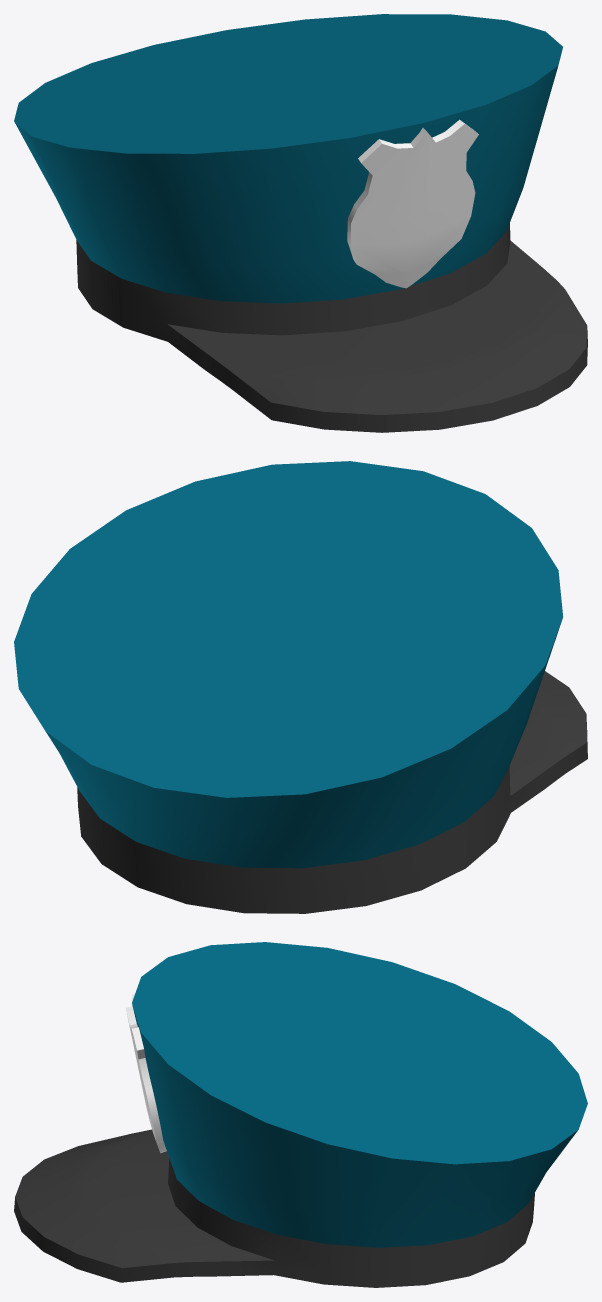
Rendered from M_PoliceHat_0.fbx.
3 views of the same model, one above another, from view 1: azimuth 30°, elevation 25°; view 2: azimuth 150°, elevation 25°; view 3: azimuth 270°, elevation 25° (orthographic). The views are drawn at different scales.
Parts seen in each view (by area): view 1: M_PoliceHat_0; view 2: M_PoliceHat_0; view 3: M_PoliceHat_0.
Part boxes in pixels (x1,y1,x2,y2): M_PoliceHat_0: (14, 14, 587, 432); M_PoliceHat_0: (14, 461, 587, 913); M_PoliceHat_0: (14, 942, 587, 1287).
Size of the model in its own units: 102 by 53.21 by 126.
